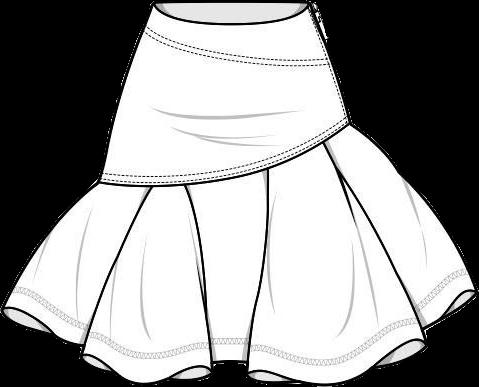Hemline: (3, 291, 475, 385)
Waistline: (98, 121, 350, 187), (153, 3, 310, 27)
